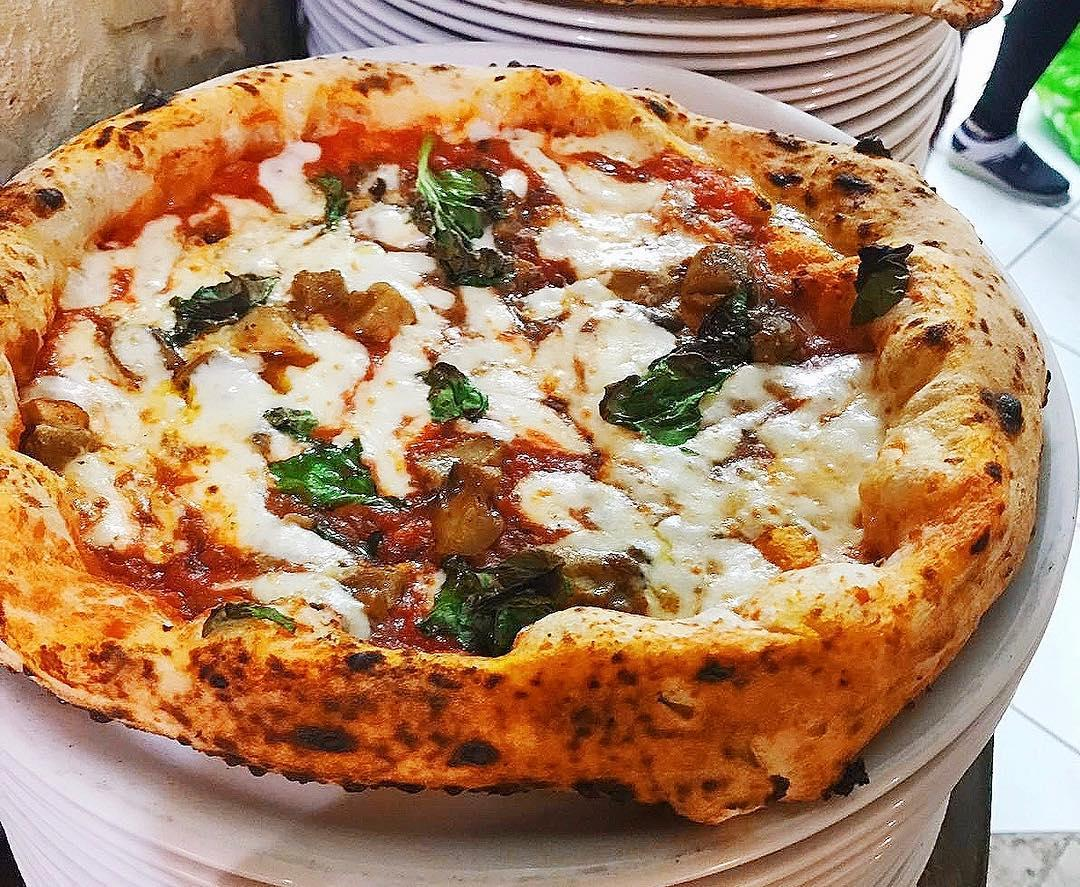Basil: (585, 283, 768, 445), (402, 122, 525, 291), (413, 541, 570, 672), (257, 400, 385, 516), (147, 263, 290, 346), (836, 230, 923, 330), (200, 589, 306, 648), (403, 353, 490, 422), (307, 160, 360, 239)
Mushroom: (404, 435, 510, 557), (281, 259, 421, 347), (663, 242, 756, 325), (11, 392, 105, 470), (344, 548, 423, 626), (741, 514, 831, 582), (595, 248, 670, 304), (232, 302, 291, 365)
Pizza: (0, 54, 1052, 823)
